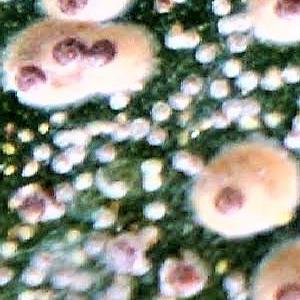Femea: (196, 163, 274, 224), (88, 31, 137, 89), (7, 42, 50, 108), (48, 33, 89, 97), (160, 255, 199, 295)
Linfa: (179, 72, 204, 94), (233, 72, 259, 93), (147, 97, 168, 122), (140, 173, 165, 194), (188, 44, 212, 65), (25, 143, 51, 162), (259, 66, 278, 92), (141, 156, 166, 175), (141, 201, 166, 220), (283, 62, 299, 91), (94, 142, 117, 162), (72, 173, 95, 193), (64, 127, 89, 145), (230, 15, 251, 36), (227, 35, 249, 54), (206, 0, 229, 17), (166, 91, 187, 109), (51, 154, 70, 173), (208, 79, 227, 98), (50, 108, 68, 128), (217, 57, 237, 75), (52, 131, 73, 148), (107, 93, 129, 109), (215, 17, 232, 36), (18, 160, 37, 176), (83, 122, 102, 138)
